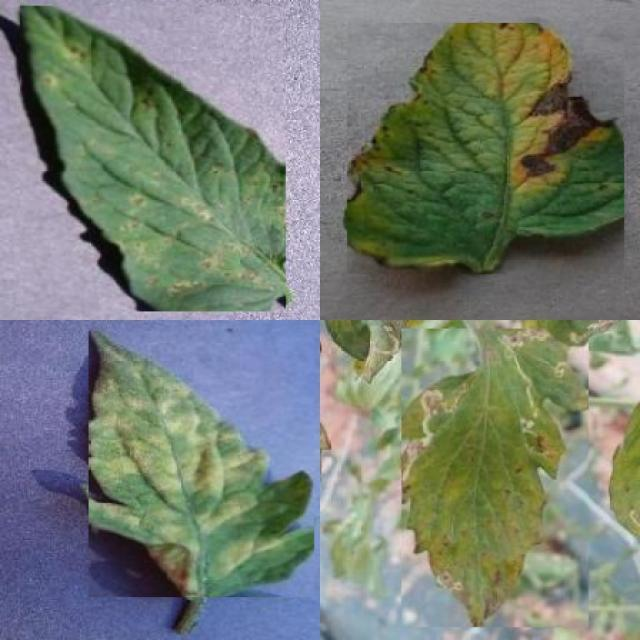Early Blight: (347, 22, 624, 274)
Leaf Miner: (402, 329, 588, 627)
Leaf Mold: (88, 329, 315, 597)
Septoria: (20, 7, 286, 312)
